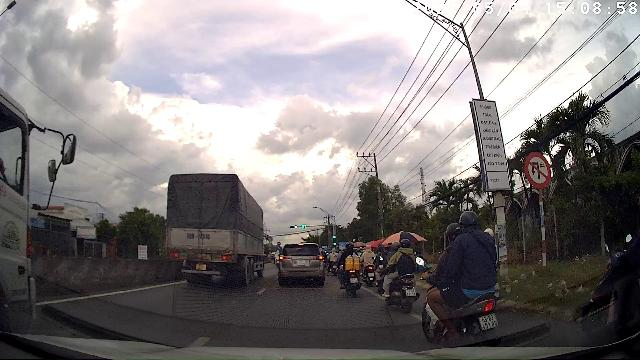124b-cam-oto-quay-dau-xe: (524, 150, 552, 190)
